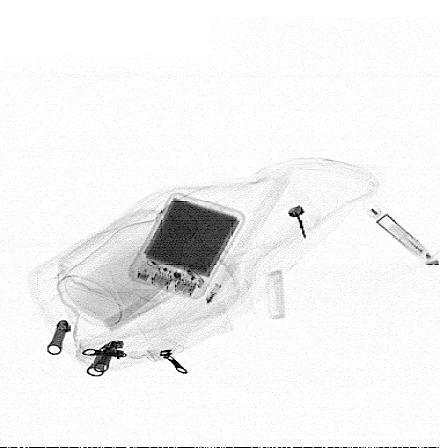Powerbank: (128, 193, 246, 300)
